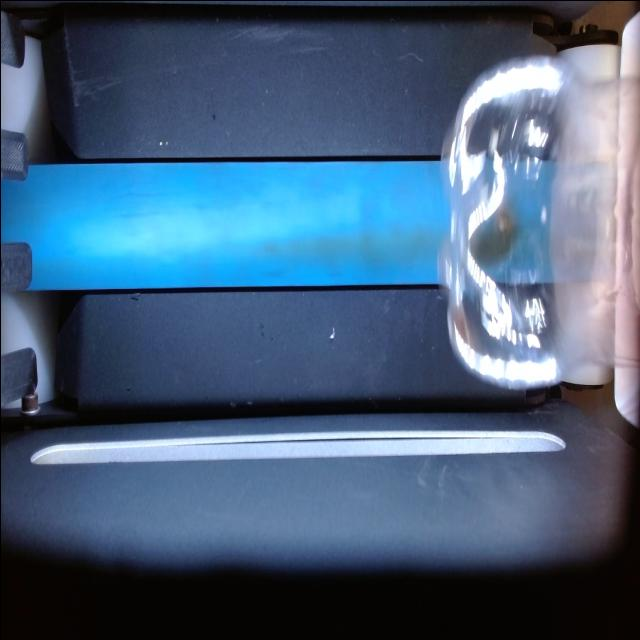bottle: (440, 51, 640, 387)
